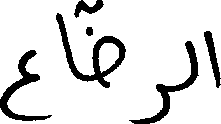ا: (55, 1, 77, 78), (203, 28, 219, 88)
ر: (133, 82, 170, 122)
ض: (82, 22, 124, 88)
ع: (0, 48, 40, 121)
ل: (184, 38, 198, 88)
